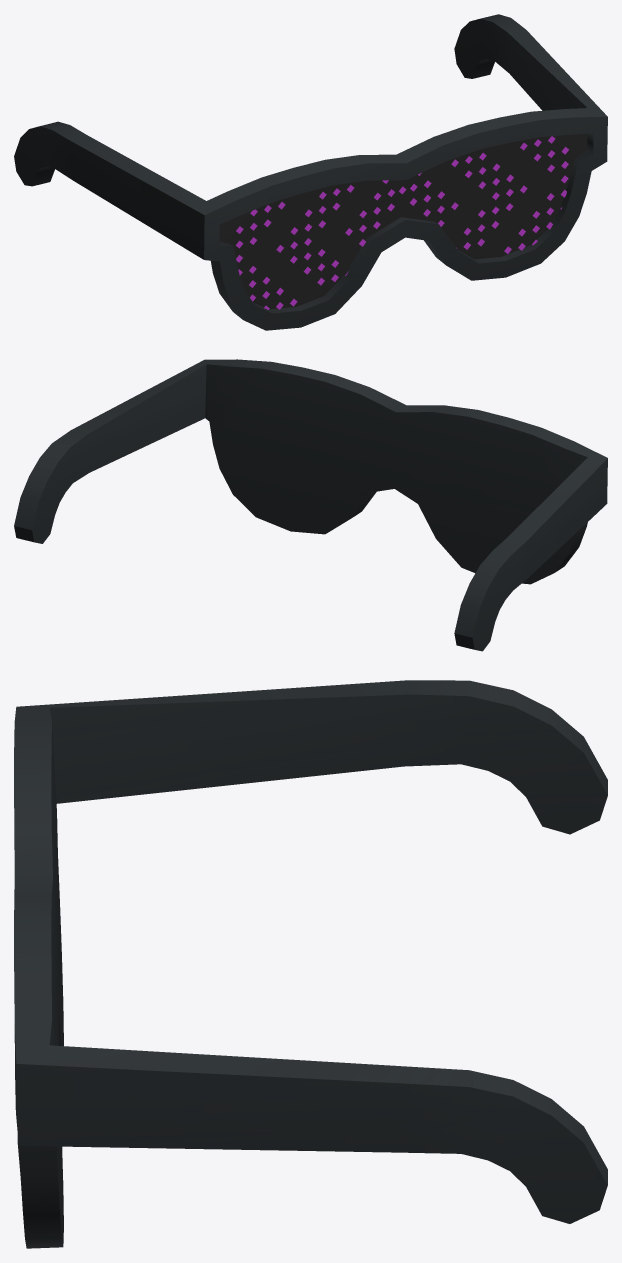
The model's file is Glasses_10.glb.
3 views of the same model, one above another, from view 1: azimuth 30°, elevation 25°; view 2: azimuth 150°, elevation 25°; view 3: azimuth 270°, elevation 25° (orthographic). The views are drawn at different scales.
Parts seen in each view (by area): view 1: Glasses_10; view 2: Glasses_10; view 3: Glasses_10.
Boxes of the visible parts, x1,y1,x2,y2 form: Glasses_10: (14,14,607,330); Glasses_10: (14,359,607,651); Glasses_10: (14,680,607,1248).
Bounding box in the file's own units: 0.6081 × 0.1967 × 0.3755.
Materials: 2 (2 with a texture image).
